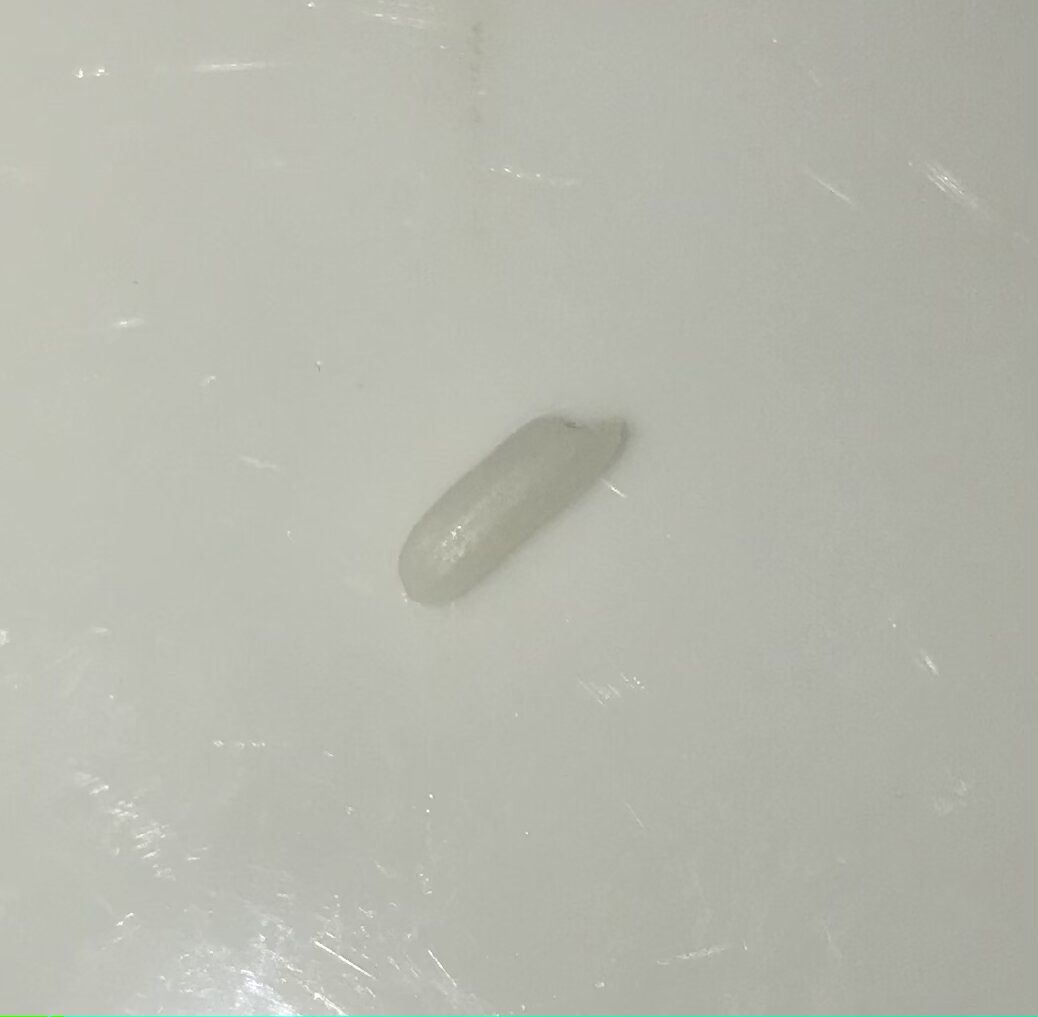Gao Lai Sua: (393, 396, 635, 609)
